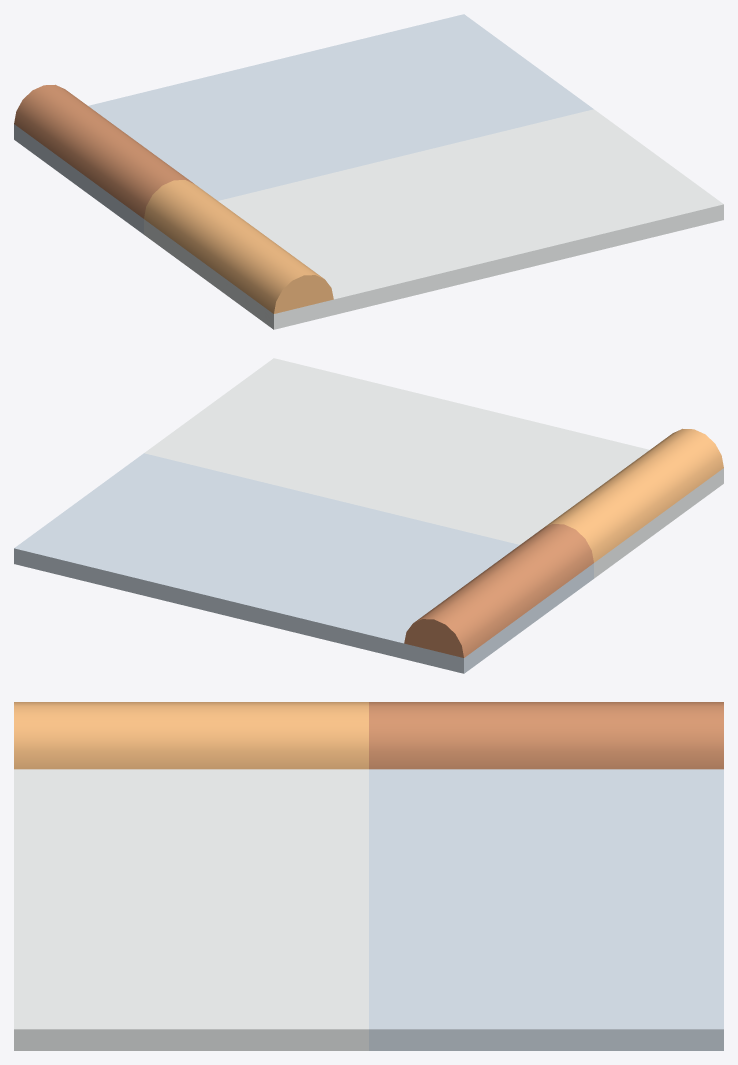
The model's file is Path_01.fbx.
The picture shows the model from 3 angles, top to bottom: view 1: azimuth 30°, elevation 25°; view 2: azimuth 150°, elevation 25°; view 3: azimuth 270°, elevation 25°; orthographic projection. The views are drawn at different scales.
Parts seen in each view (by area): view 1: Path_01.001, Path_01.001_Sides; view 2: Path_01.001, Path_01.001_Sides; view 3: Path_01.001, Path_01.001_Sides.
Part boxes in pixels (x1,y1,x2,y2): Path_01.001: (14, 14, 723, 329); Path_01.001_Sides: (14, 84, 333, 313); Path_01.001: (14, 358, 723, 673); Path_01.001_Sides: (404, 428, 723, 657); Path_01.001: (14, 769, 723, 1050); Path_01.001_Sides: (14, 702, 723, 769).
Size of the model in its own units: 600 by 60 by 600.
